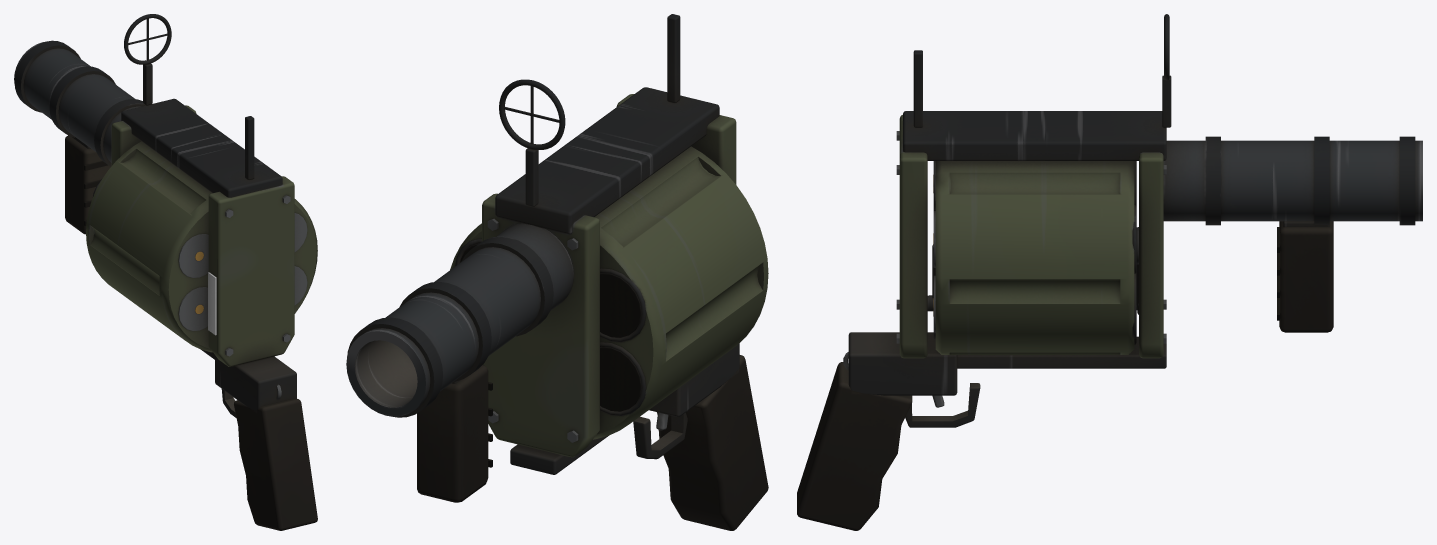
The model's file is weapon_mgl.gltf.
3 renders of one model, left to right at view 1: azimuth 30°, elevation 25°; view 2: azimuth 150°, elevation 25°; view 3: azimuth 270°, elevation 25°, orthographic. The views are drawn at different scales.
Parts seen in each view (by area): view 1: Body, Cylinder, Rounds; view 2: Body, Cylinder; view 3: Body, Cylinder.
Part boxes in pixels (x1,y1,x2,y2): Body: (14, 14, 317, 530); Cylinder: (86, 141, 317, 352); Rounds: (178, 213, 307, 331); Body: (346, 14, 768, 530); Cylinder: (450, 146, 768, 439); Body: (797, 14, 1422, 530); Cylinder: (935, 161, 1138, 354).
Bounding box in the file's own units: 0.141 × 0.358 × 0.4032.
9 materials, 9 textured.
